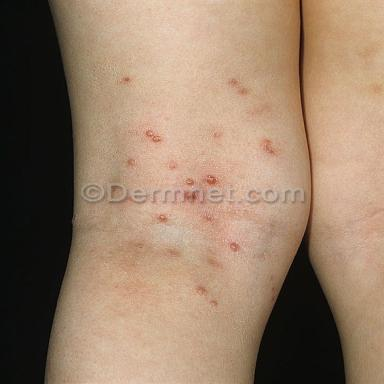Molluscum-Contagiosum: (229, 242, 241, 252), (205, 175, 217, 185), (126, 157, 137, 166), (195, 286, 206, 295), (151, 135, 161, 143), (158, 214, 168, 222), (185, 178, 194, 186), (145, 130, 154, 137), (210, 300, 217, 306)
